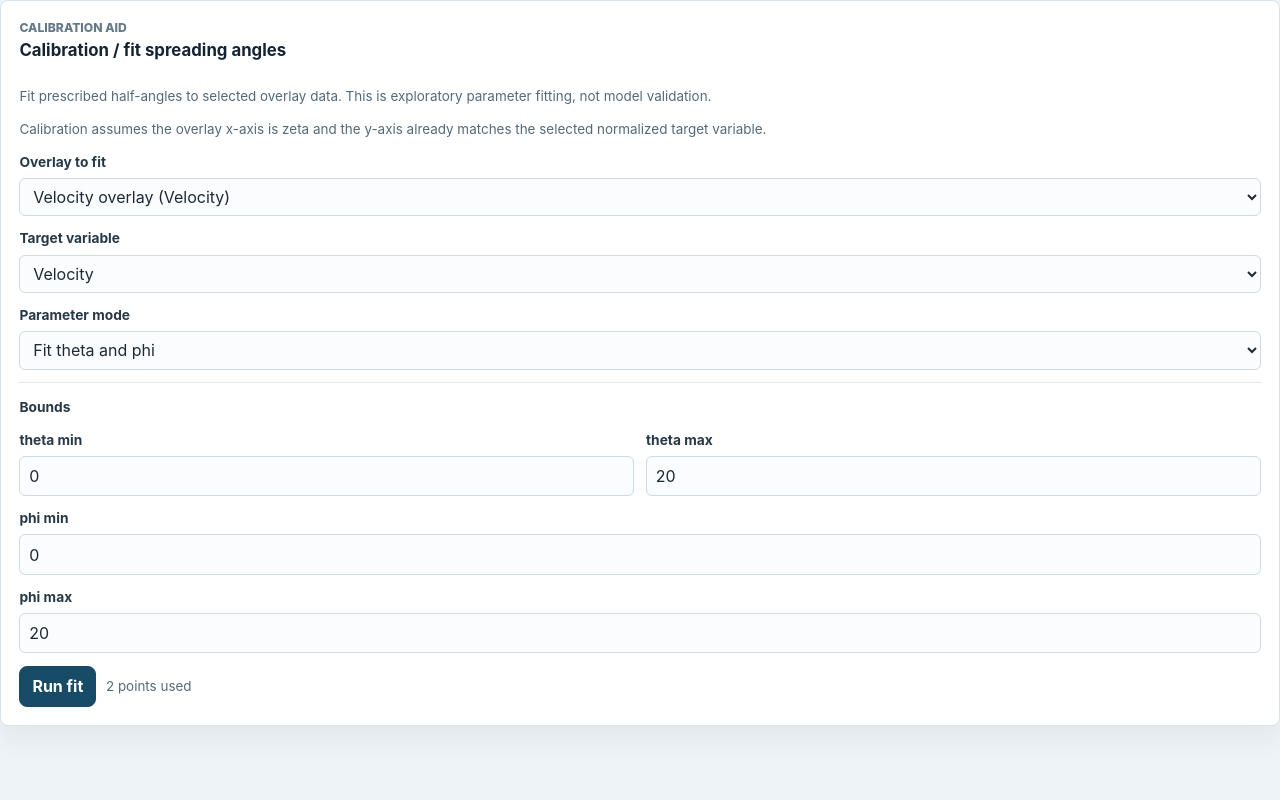
CalibrationPanel › defaults the target variable to the newly selected overlay variable
Expected: the dropdown labelled "Target variable" shows "Velocity", x1=19 y1=254 x2=1261 y2=293
Select "Density overlay (Density)" in the dropdown labelled "Overlay to fit" at {"x": 640, "y": 197}, box x1=19 y1=178 x2=1261 y2=216
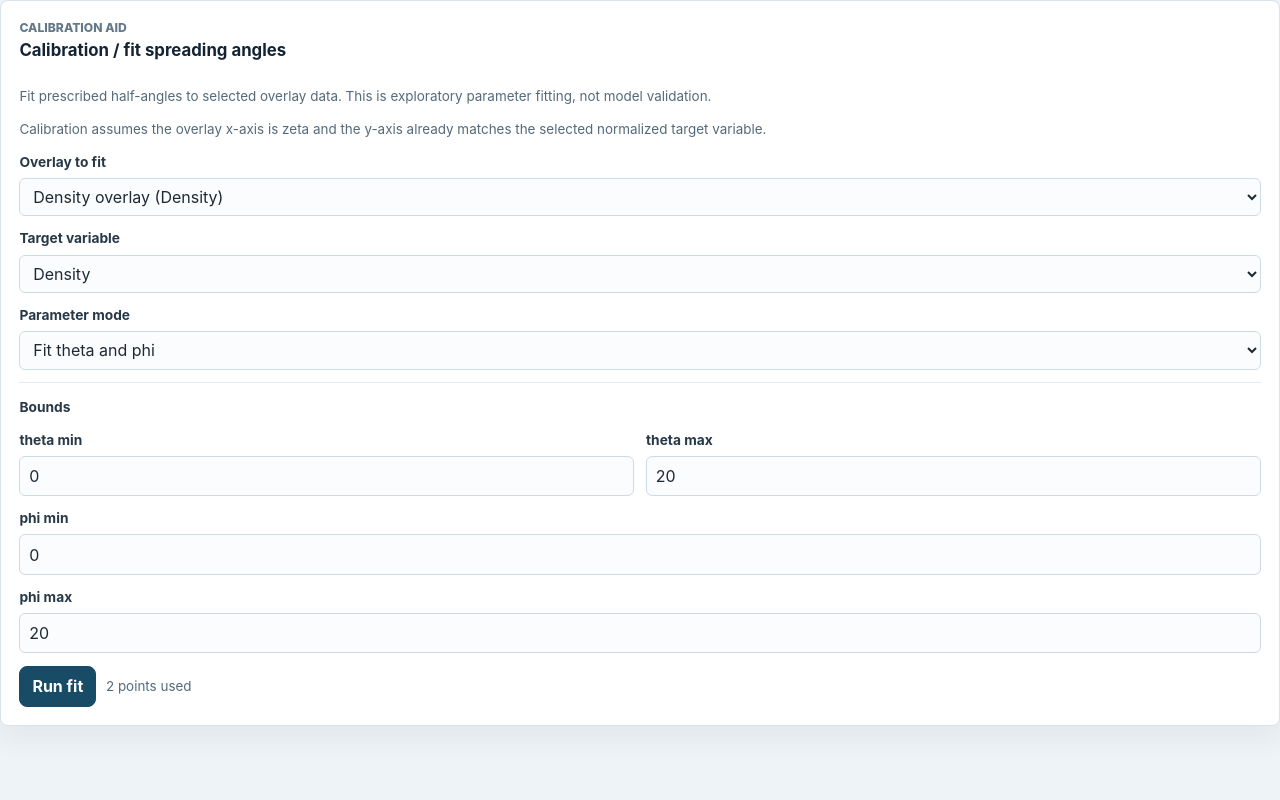
Expected: the dropdown labelled "Target variable" shows "Density", x1=19 y1=254 x2=1261 y2=293
